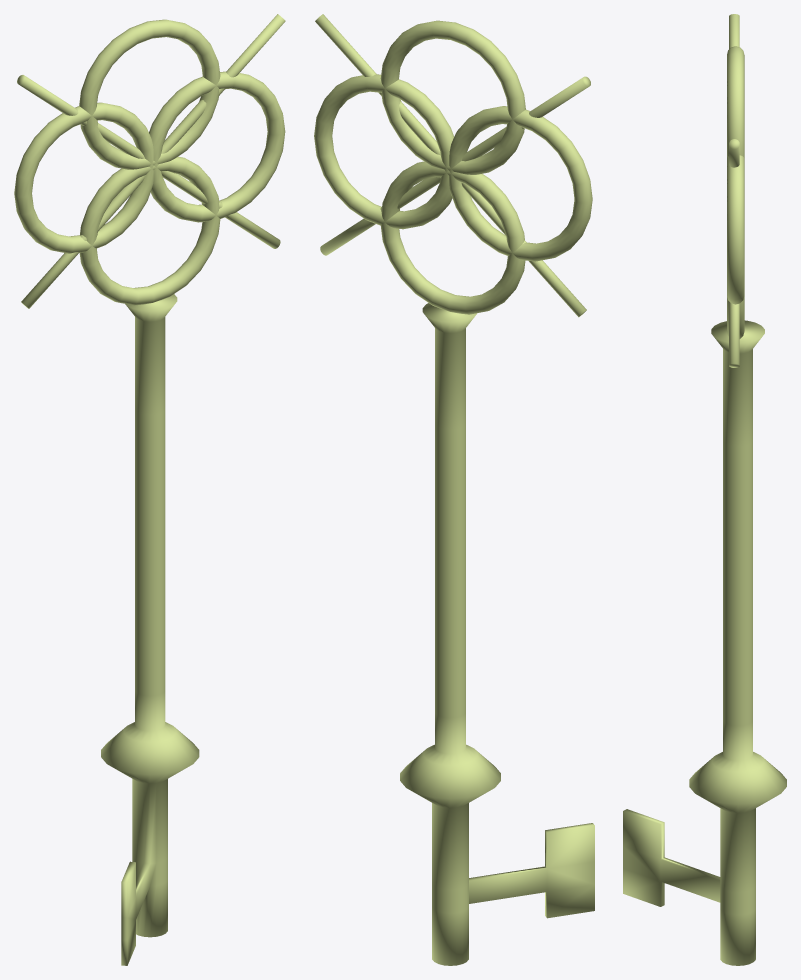
The model's file is key1.obj.
The picture shows the model from 3 angles, left to right: view 1: azimuth 30°, elevation 25°; view 2: azimuth 150°, elevation 25°; view 3: azimuth 270°, elevation 25°; orthographic projection. The views are drawn at different scales.
Visible parts, largest first — view 1: Cylinder001, Torus003, Torus004, Torus001, Torus002, Cylinder002, Cylinder003; view 2: Cylinder001, Torus003, Torus004, Torus001, Torus002, Cylinder002, Cylinder003; view 3: Cylinder001, Torus004, Torus002, Cylinder003.
Part boxes in pixels (box(x1,y1,x2,y2)): Cylinder001: box(101, 294, 199, 965); Torus003: box(14, 102, 153, 253); Torus004: box(149, 71, 285, 222); Torus001: box(79, 156, 220, 305); Torus002: box(79, 19, 220, 169); Cylinder002: box(21, 14, 285, 308); Cylinder003: box(17, 75, 280, 248); Cylinder001: box(400, 303, 594, 965); Torus003: box(449, 106, 592, 261); Torus004: box(314, 74, 453, 229); Torus001: box(381, 161, 525, 314); Torus002: box(380, 20, 525, 174); Cylinder002: box(315, 14, 586, 317); Cylinder003: box(320, 76, 590, 255); Cylinder001: box(623, 320, 786, 965); Torus004: box(727, 155, 744, 304); Torus002: box(727, 46, 744, 158); Cylinder003: box(729, 14, 739, 367).
Bounding box in the file's own units: 19.89 × 64.29 × 10.56.
